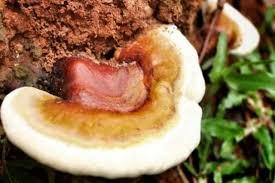Ganoderma - Fruit Body: (1, 22, 206, 179), (215, 0, 262, 58)
